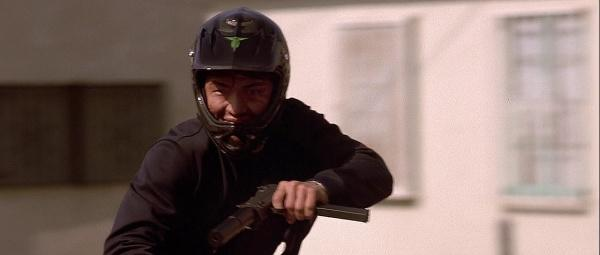Gun: (212, 183, 371, 243)
